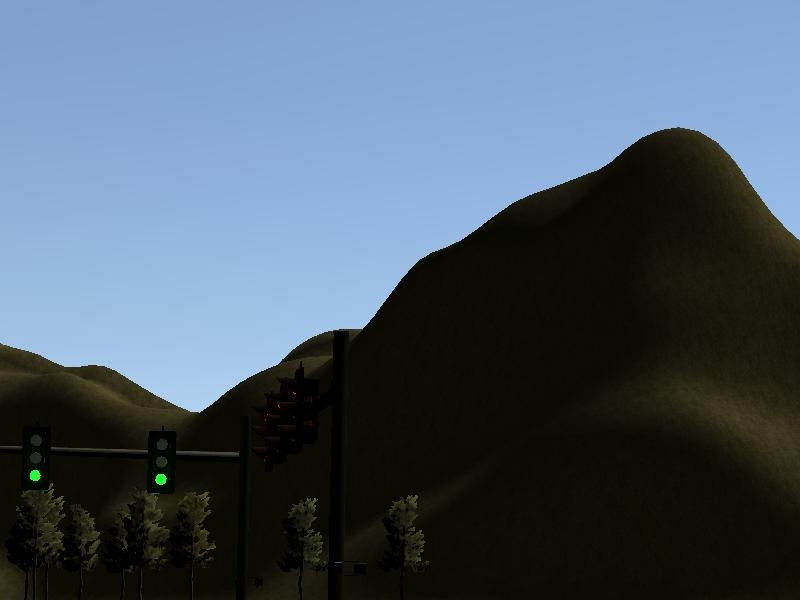GREEN: (148, 435, 174, 494), (24, 430, 49, 488)
